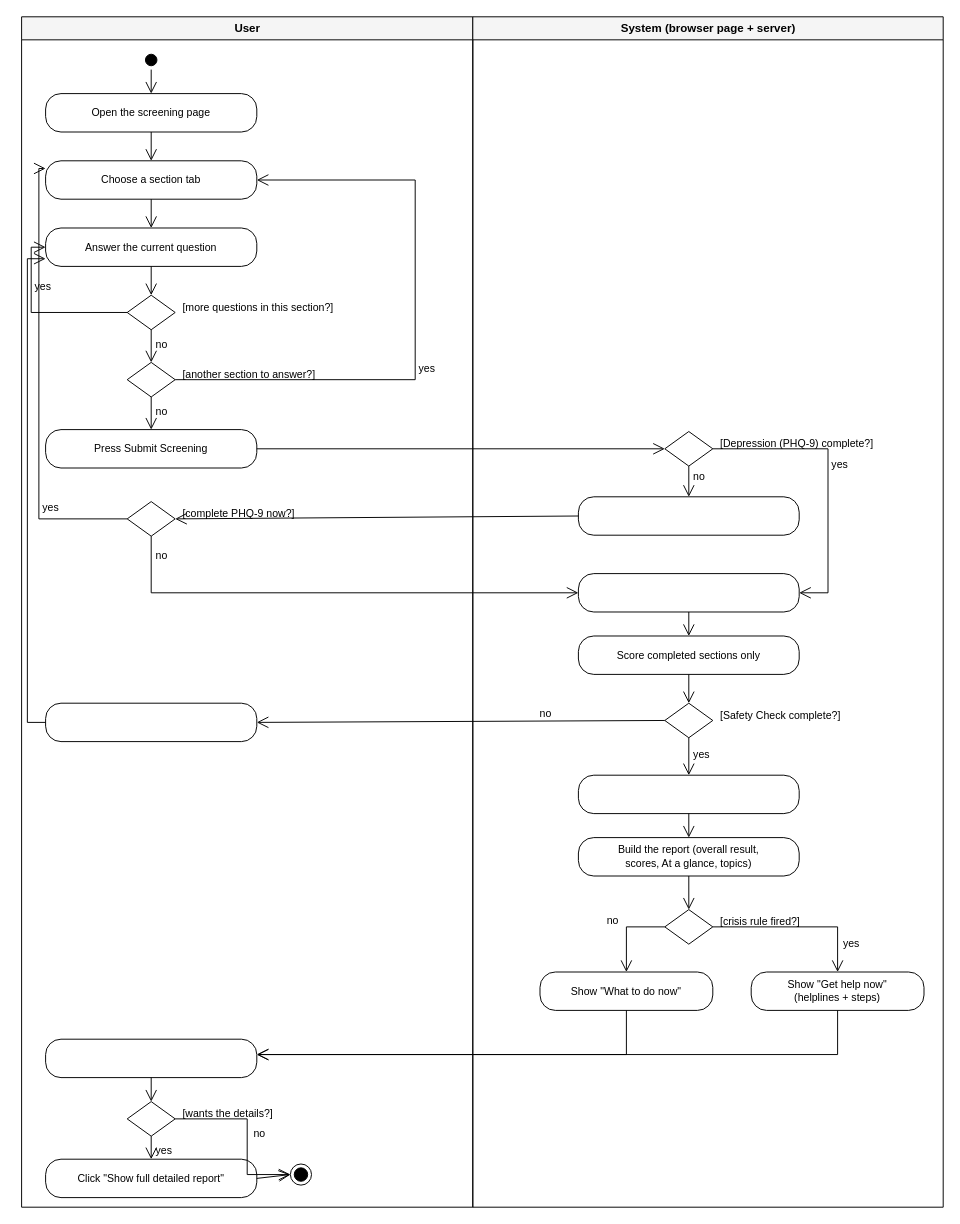
Image size: 960x1224. Some labels were removed from this diagram. The box of each missing label's shape, as (x1, y1, x2, y2) in pixels:
Keep only valid answers: (577, 573, 799, 612)
Read the summary card, At a glance and next steps: (45, 1038, 257, 1078)
Return to the Safety Check with a hint: (45, 702, 257, 742)
Run rule passes, levels 1 to 4: (577, 774, 799, 814)
Show "Before you submit" dialog: recommend completing PHQ-9: (577, 496, 799, 535)
